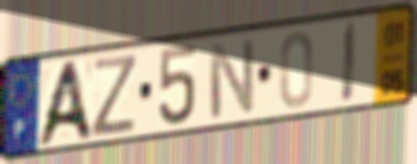0: (278, 29, 315, 111)
5: (157, 42, 199, 128)
A: (32, 57, 97, 149)
I: (339, 19, 360, 107)
N: (206, 36, 257, 122)
Z: (89, 52, 139, 139)
